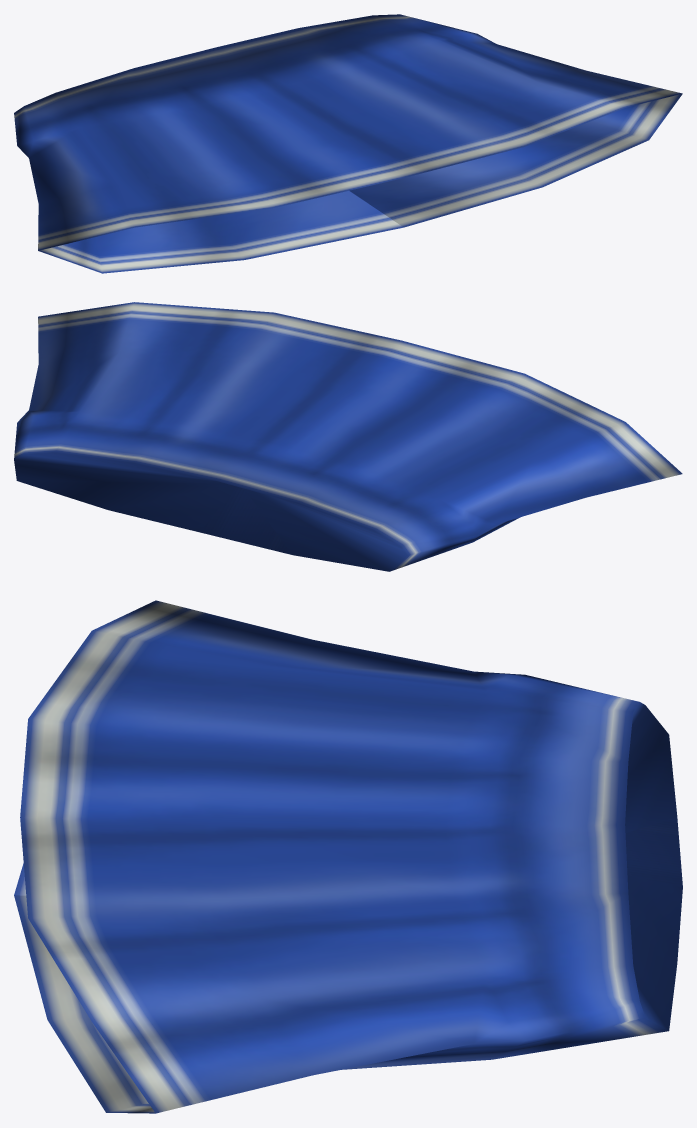
File: PL2_Ground.fbx
3 views of the same model, one above another, from view 1: azimuth 30°, elevation 25°; view 2: azimuth 150°, elevation 25°; view 3: azimuth 270°, elevation 25° (orthographic). The views are drawn at different scales.
Visible parts, largest first — view 1: Body; view 2: Body; view 3: Body.
Boxes of the visible parts, x1,y1,x2,y2 form: Body: (14, 14, 682, 273); Body: (14, 302, 682, 571); Body: (14, 600, 682, 1113).
Size of the model in its own units: 0.2769 by 0.0214 by 0.1525.
